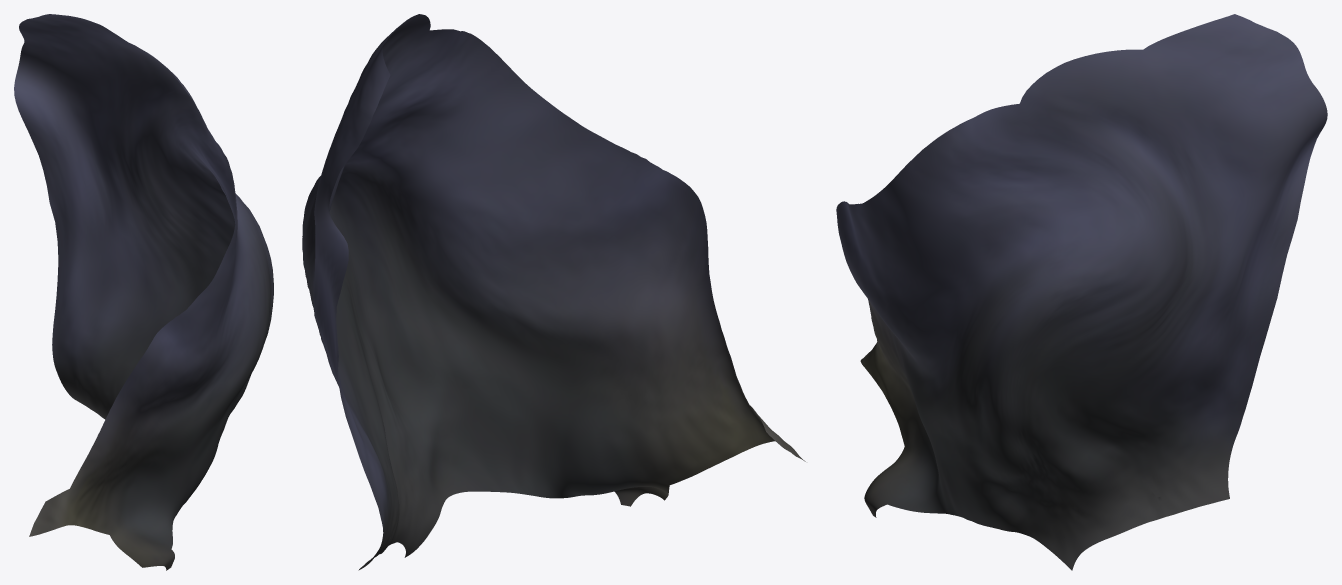
The model's file is Cloud_global_new_14.glb.
The picture shows the model from 3 angles, left to right: view 1: azimuth 30°, elevation 25°; view 2: azimuth 150°, elevation 25°; view 3: azimuth 270°, elevation 25°; orthographic projection. The views are drawn at different scales.
Parts seen in each view (by area): view 1: LOD0; view 2: LOD0; view 3: LOD0.
Part boxes in pixels (box(x1,y1,x2,y2)): LOD0: box(14, 14, 273, 570); LOD0: box(302, 14, 805, 570); LOD0: box(836, 14, 1327, 570).
Size of what is drawn, in the model's own units: 0.9134 by 1.27 by 1.08.
